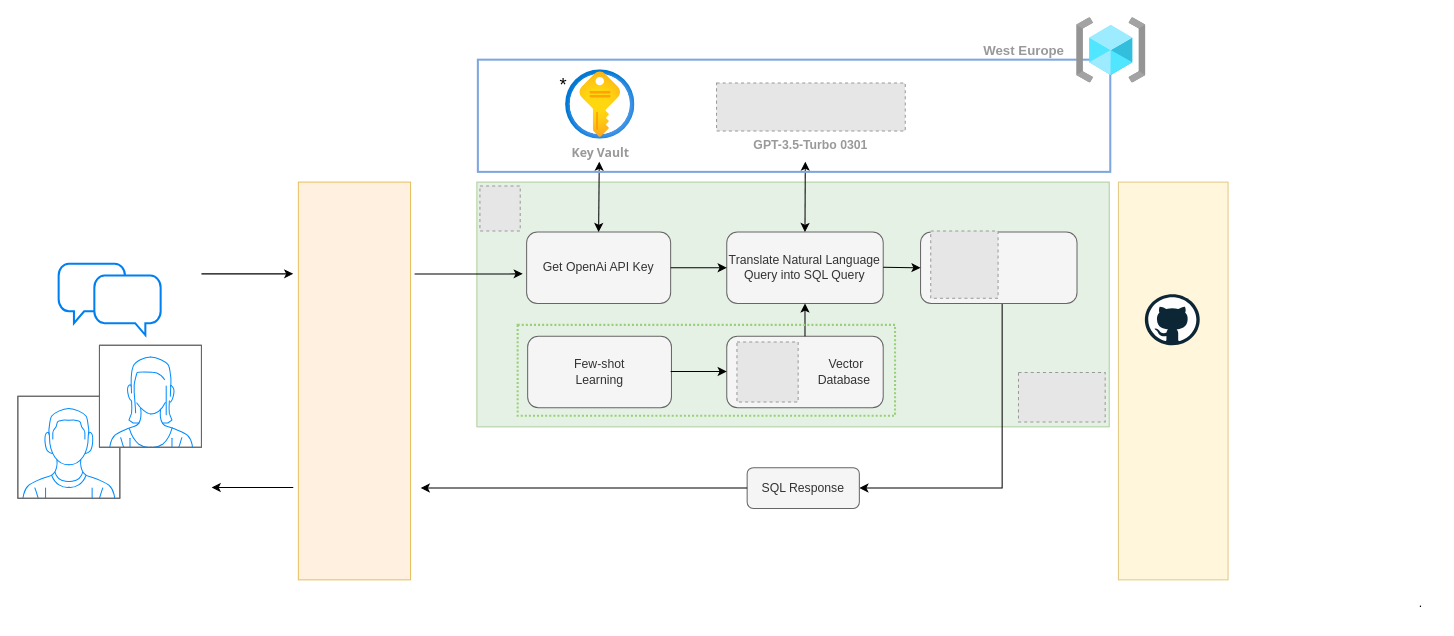
Some shapes in this 1454 by 636 pixel diagram are drawn without their labels. Grey dashed boxes stand in for pictures. The shapes that lost their labels are listed below. From the top down, each one's box as (x1, y1, x2, y2) in pixels, then its label:
(920, 231, 1077, 303): Execute SQL Query
(297, 181, 411, 580): Front End
(1117, 181, 1228, 580): Git Hub Code Repository
